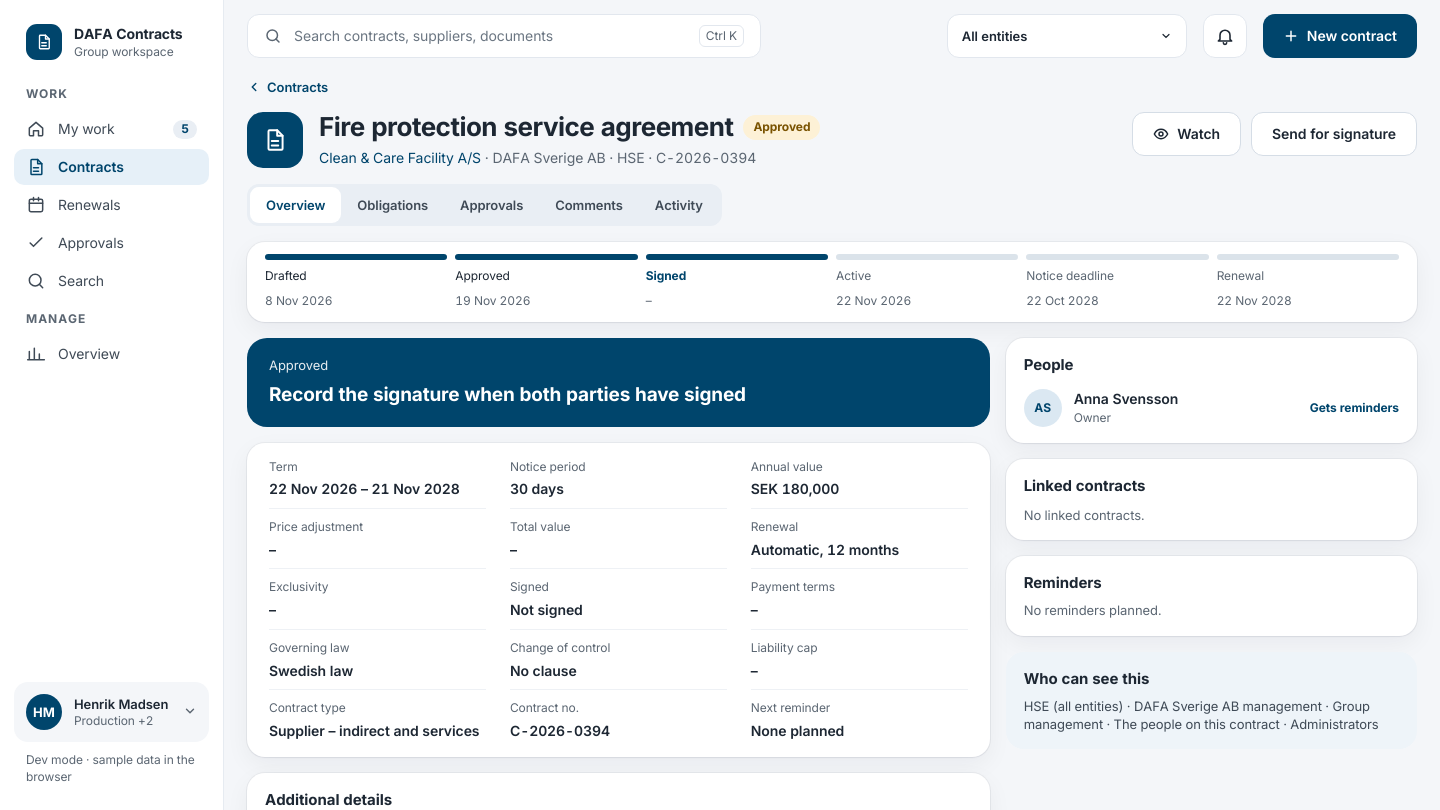
Scenario: E-signature (owner item H) › a user without the right is shown who can send it instead
Click the button "Send for signature": {"x": 1334, "y": 134} [1251, 112, 1417, 156]
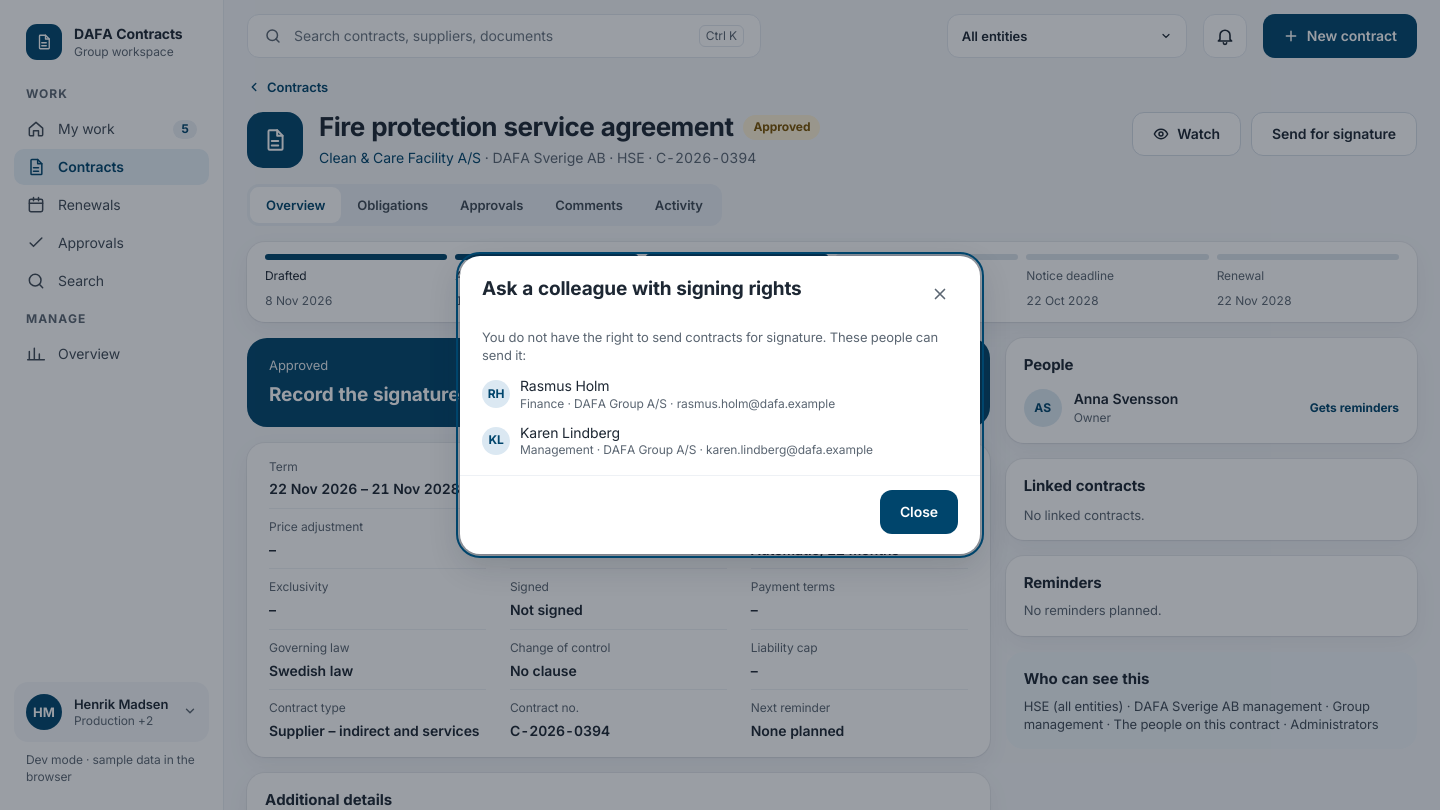
Result: the text "Rasmus Holm" is shown at [520, 377, 610, 394]
